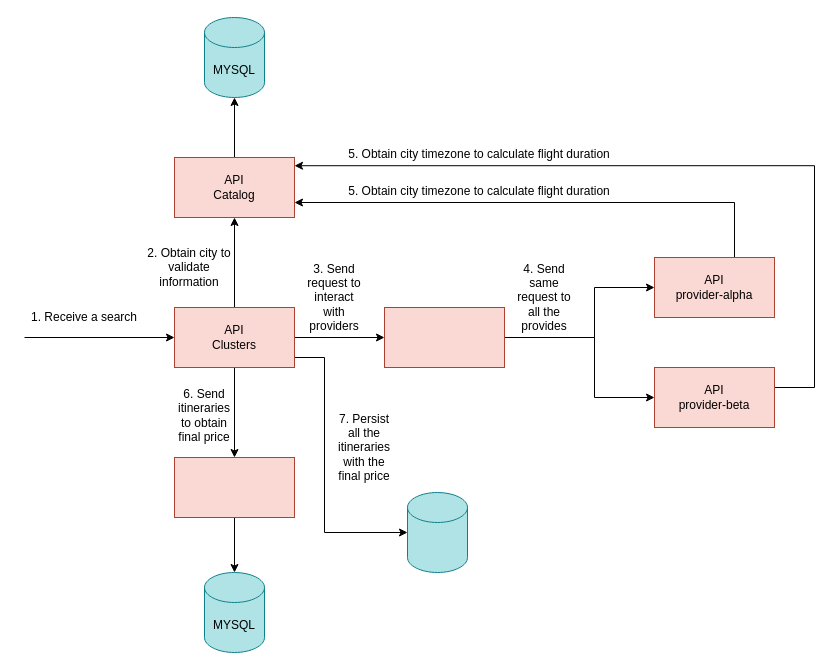
Some shapes in this 840 by 670 pixel diagram are drawn without their labels. Each missing label, with the box of its shape:
API Itineraries-search: (384, 306, 504, 368)
API Pricing: (174, 456, 294, 518)
Redis: (406, 492, 468, 572)
